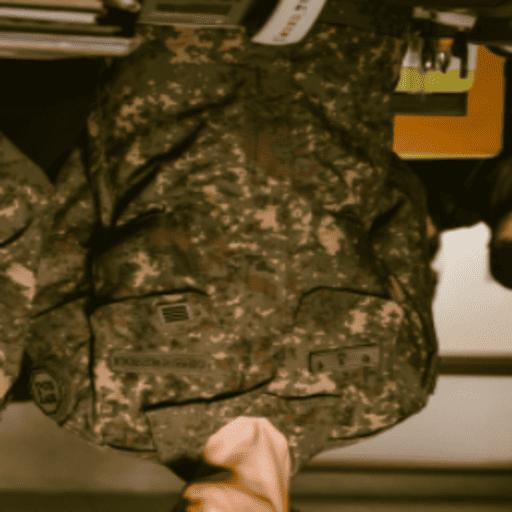korea army: (0, 19, 440, 459)
